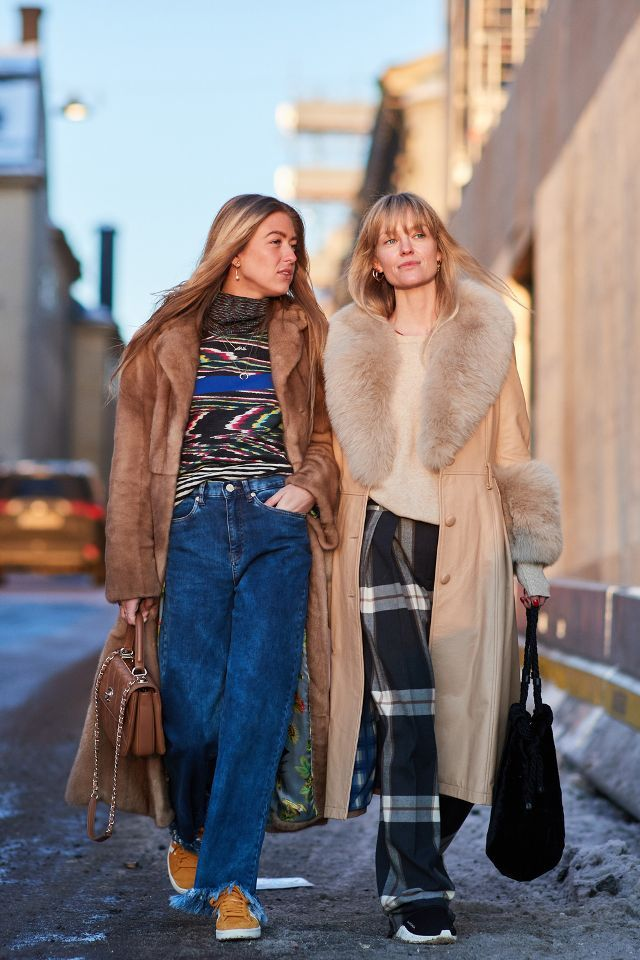Person: (61, 193, 329, 939), (329, 192, 562, 942)
